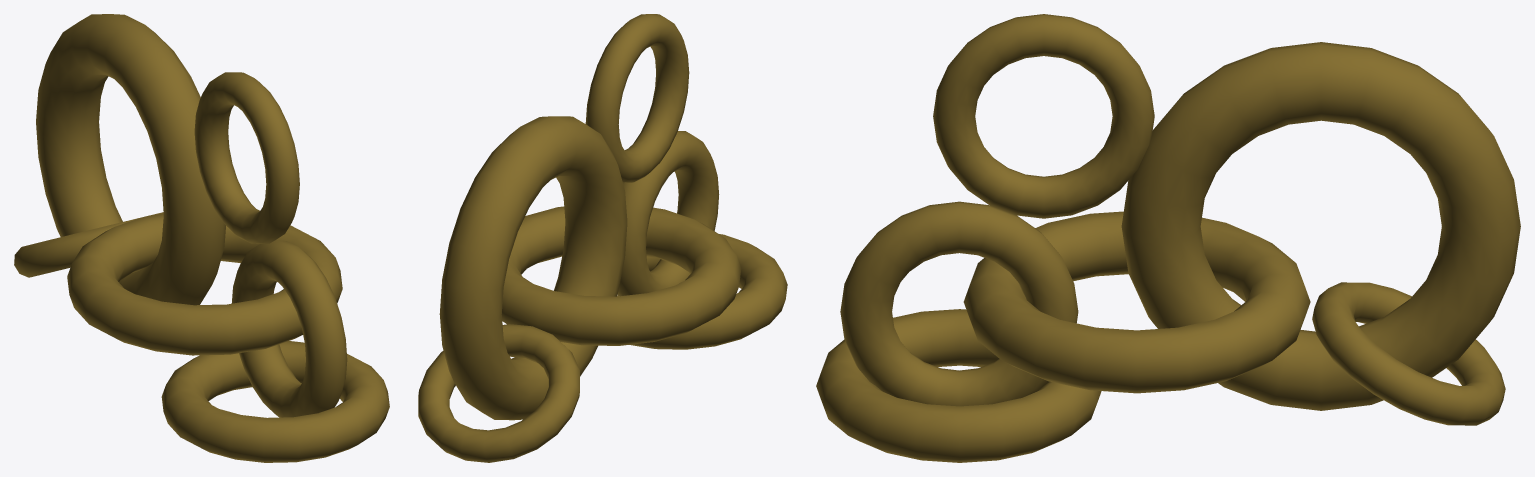
File: huge_zlitos_deco.glb
The picture shows the model from 3 angles, left to right: view 1: azimuth 30°, elevation 25°; view 2: azimuth 150°, elevation 25°; view 3: azimuth 270°, elevation 25°; orthographic projection. The views are drawn at different scales.
Visible parts, largest first — view 1: zlitos; view 2: zlitos; view 3: zlitos.
Part boxes in pixels (box(x1,y1,x2,y2)): zlitos: box(14, 14, 389, 462); zlitos: box(418, 14, 787, 462); zlitos: box(816, 14, 1520, 462).
Size of the model in its own units: 0.685 by 0.8682 by 1.39.
